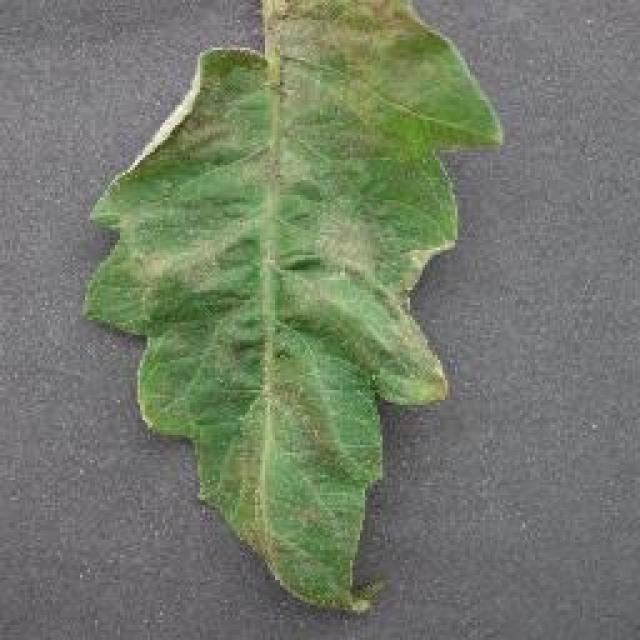Tomato late blight leaf: (79, 0, 509, 620)
